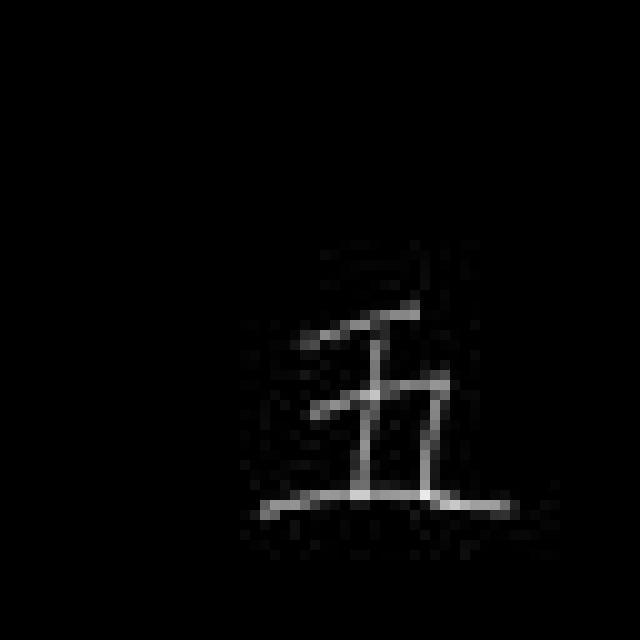5 -five-: (249, 286, 524, 529)
